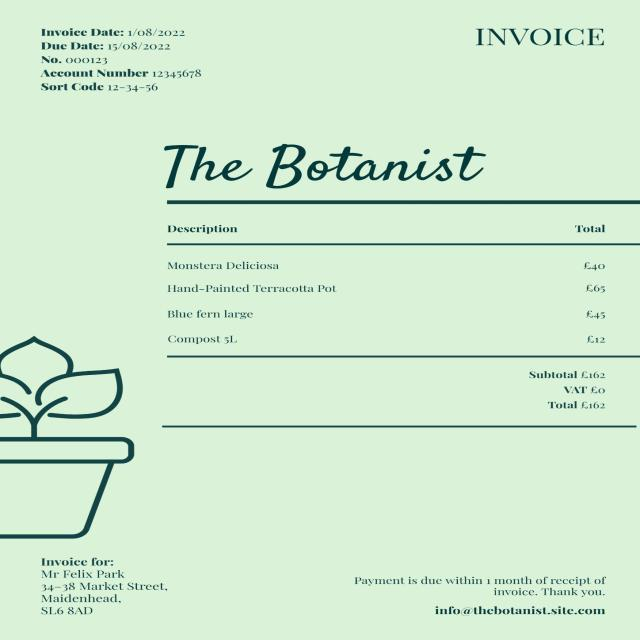ROI: (154, 206, 628, 352), (151, 132, 500, 192), (334, 560, 620, 628), (29, 18, 215, 100), (25, 549, 176, 625), (514, 358, 624, 416), (466, 19, 612, 52)
